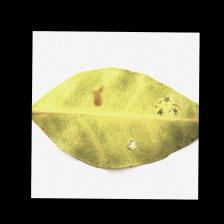canker: (83, 79, 187, 154)
